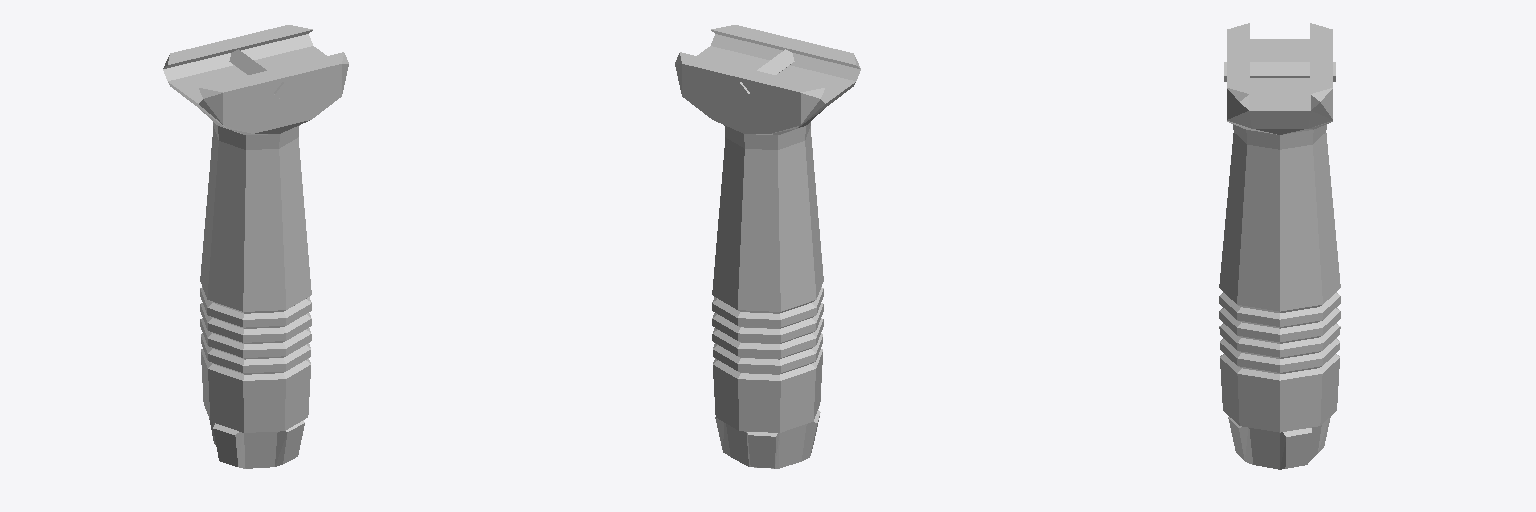
Rendered from vertical_grip.obj.
3 views of the same model, side by side, from view 1: azimuth 30°, elevation 25°; view 2: azimuth 150°, elevation 25°; view 3: azimuth 270°, elevation 25° (orthographic).
Visible parts, largest first — view 1: attachmentModel; view 2: attachmentModel; view 3: attachmentModel.
Part boxes in pixels (left/top/right/bottom): attachmentModel: left=163, top=25, right=348, bottom=468; attachmentModel: left=675, top=25, right=860, bottom=468; attachmentModel: left=1219, top=23, right=1340, bottom=469.
Size of the model in its own units: 1.75 by 4.53 by 1.27.